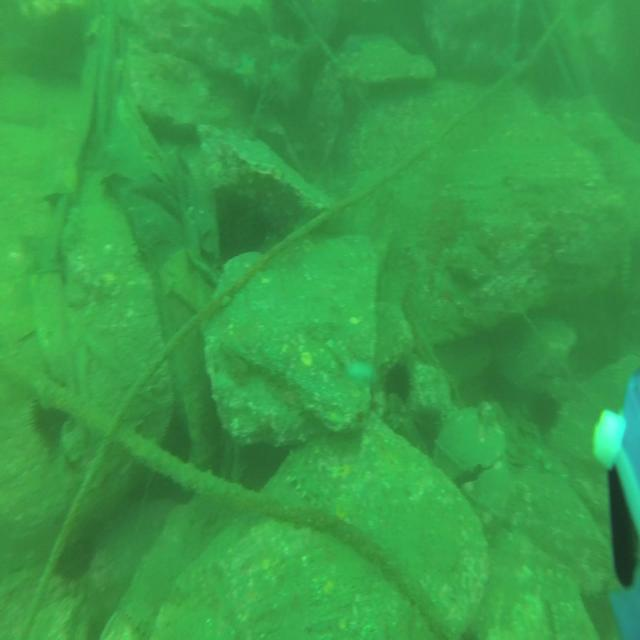echinus: (27, 390, 71, 450), (382, 358, 415, 409)
